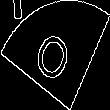O_SW: (32, 21, 78, 89)
